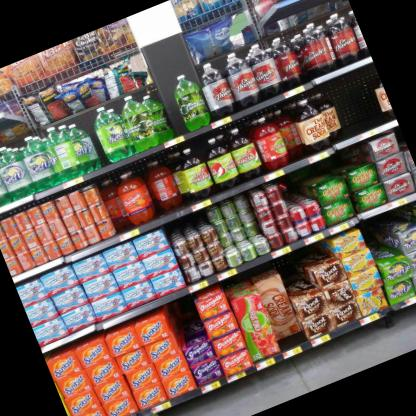empty_space: (326, 64, 386, 136), (146, 84, 188, 141), (70, 116, 110, 170)
